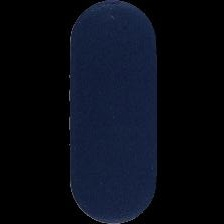63739-525: (0, 0, 224, 224)
